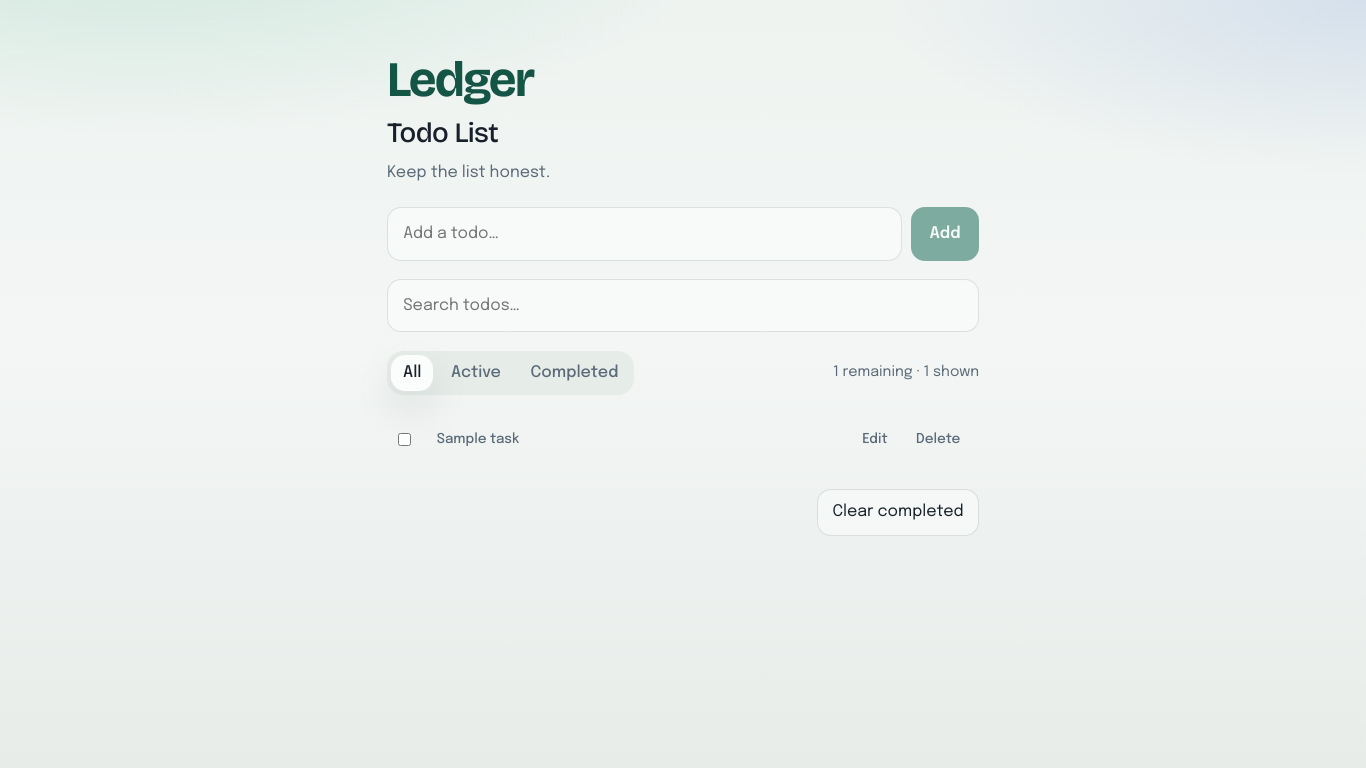
Test: App › creates a todo
Expected: the button "Sample task" is shown, [425, 423, 531, 456]
Type "Write tests" into the field at [644, 234], box [387, 208, 902, 261]
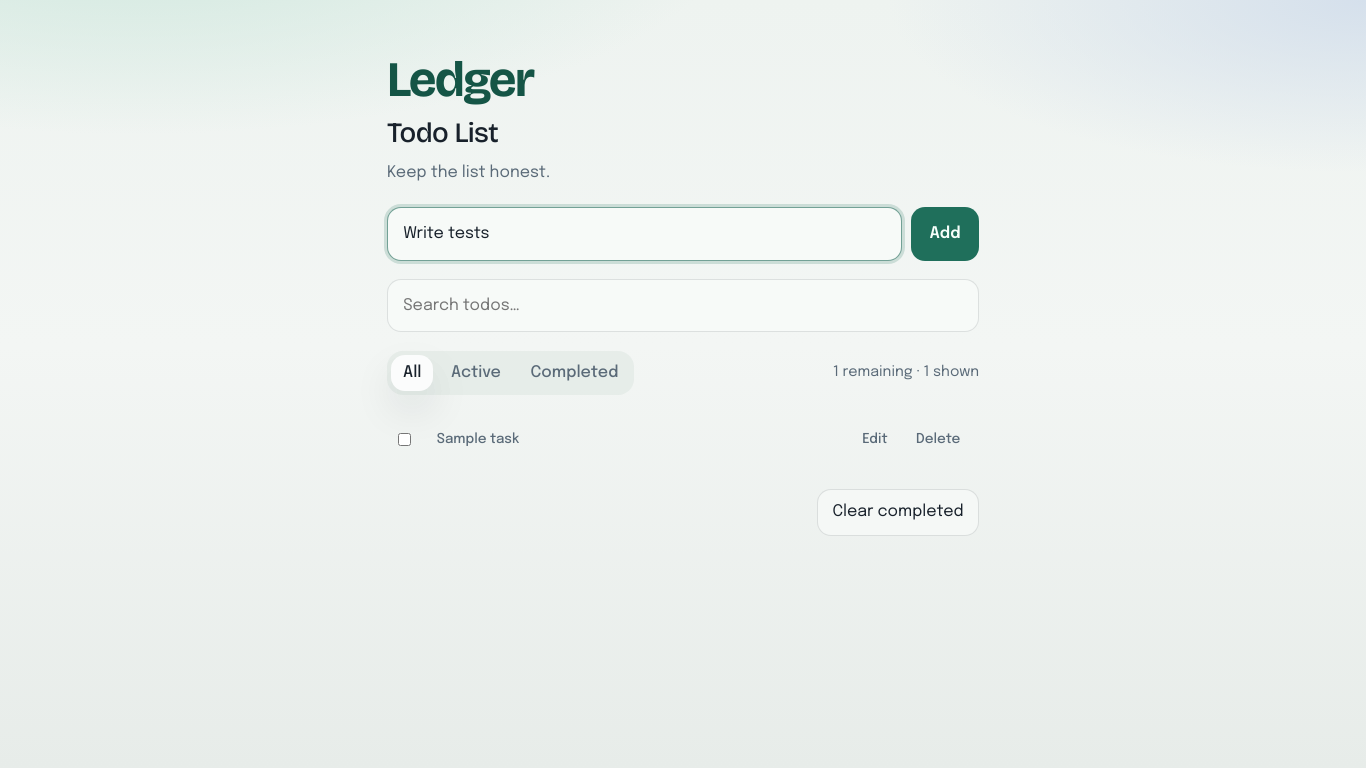
Click the button "Add" at [945, 234], box [911, 208, 979, 261]
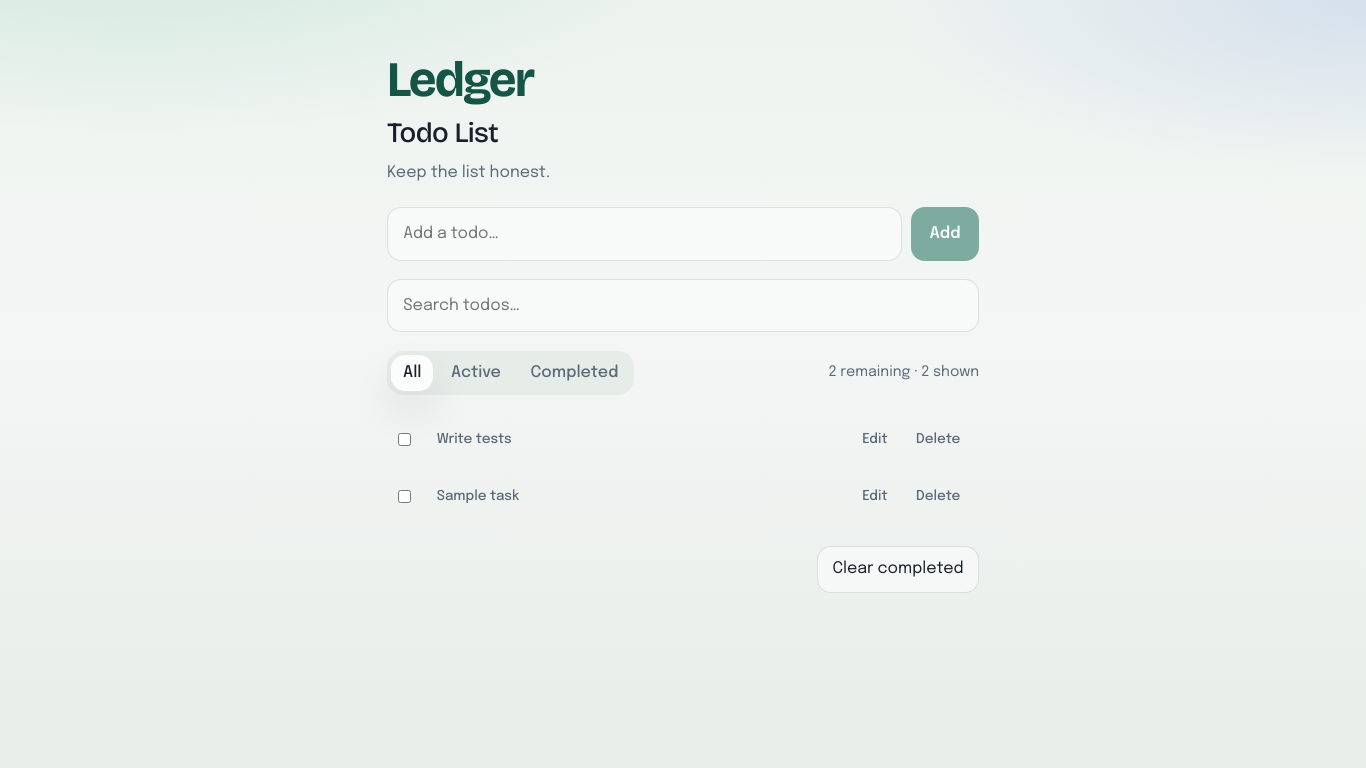
Expected: the button "Write tests" is shown, [425, 423, 523, 456]
